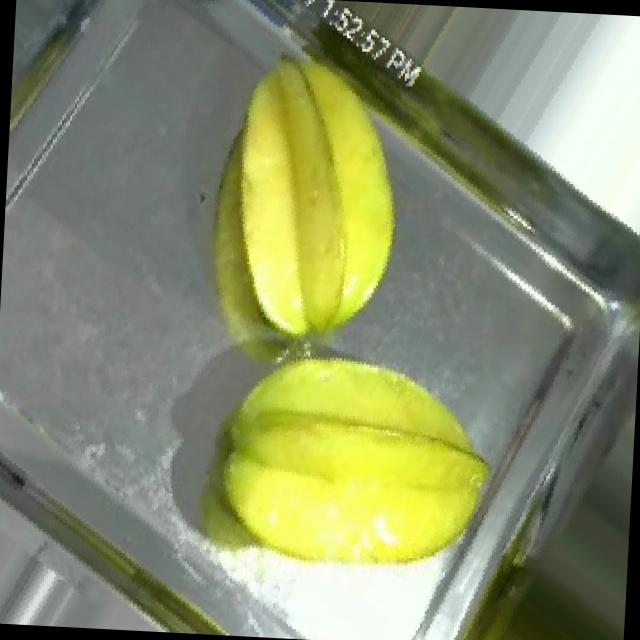fruit: (158, 290, 535, 636), (131, 22, 467, 384)
